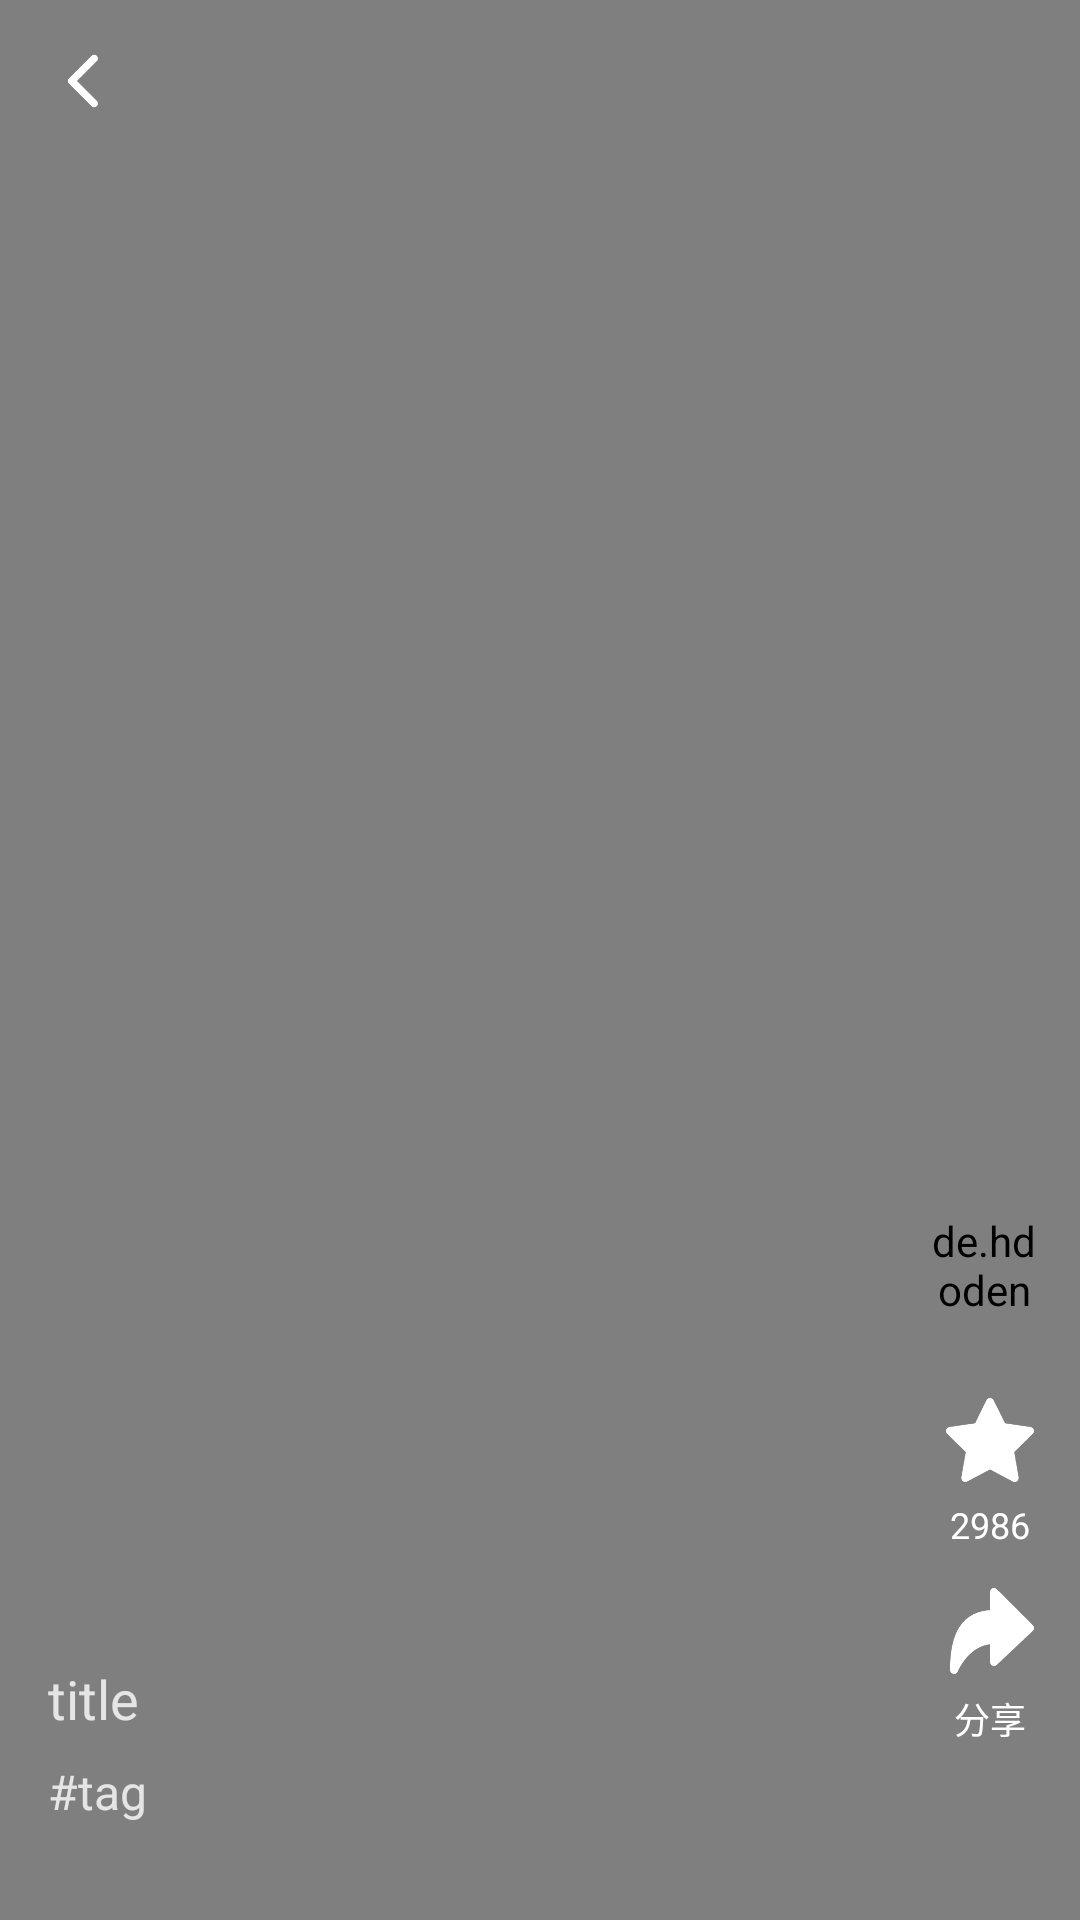

Screen size 1080×1920. Icon name, then its center in pixels as (x,y):
left: (83,81)
star: (990,1440)
